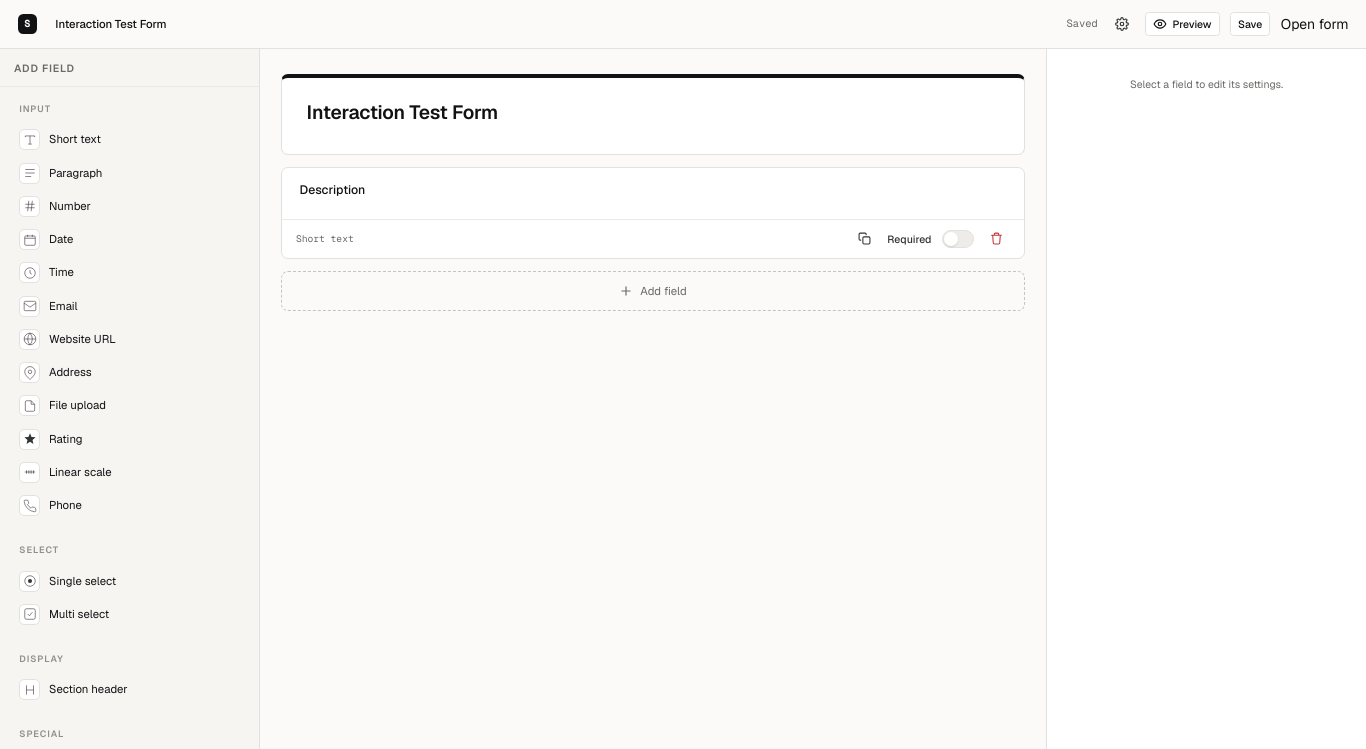
BuilderPage interactions › selecting a field › ConfigPanel shows Field, Logic, Validation tabs after field selection
The width and height of the screenshot is (1366, 749).
Click the text "Description". click: [332, 191]
box: [300, 182, 365, 199]
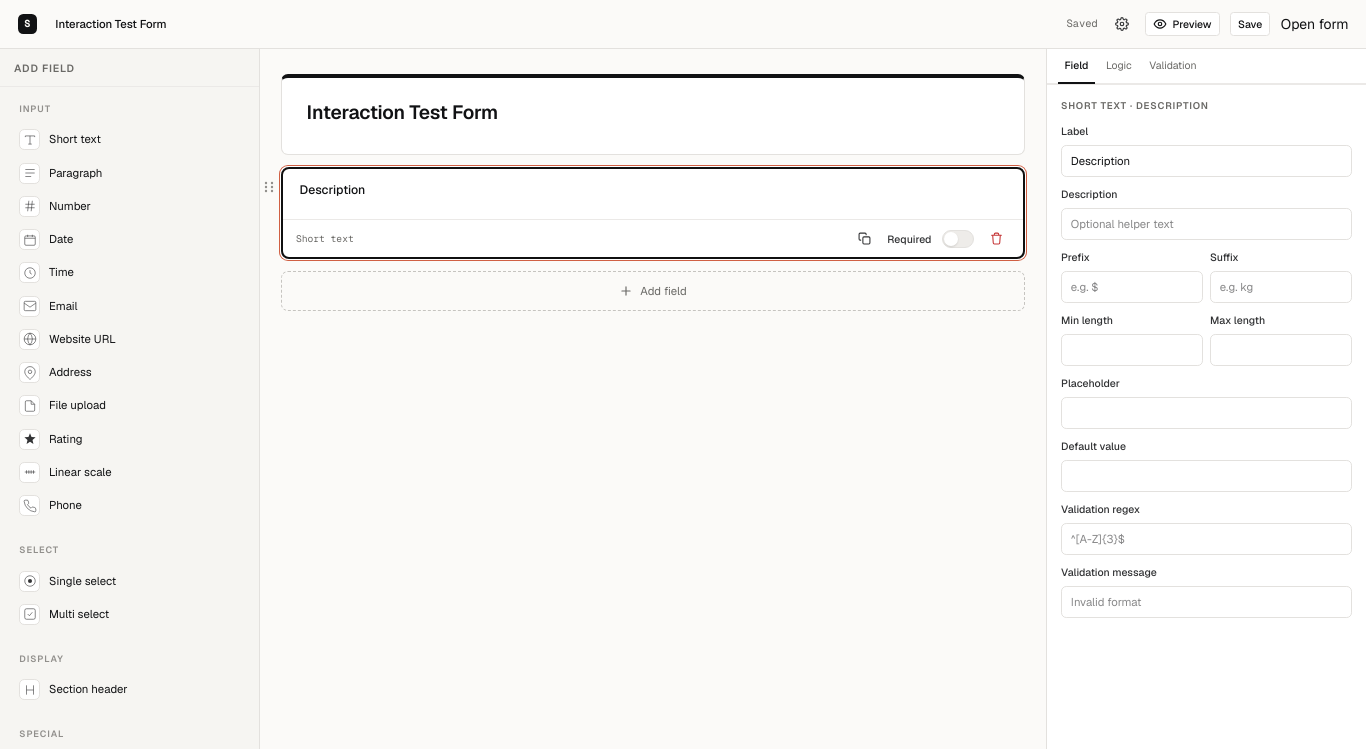
Check: the button "Field" is shown, box [1058, 49, 1095, 84]
Check: the button "Logic" is shown, box [1099, 49, 1139, 84]
Check: the button "Validation" is shown, box [1142, 49, 1204, 84]
